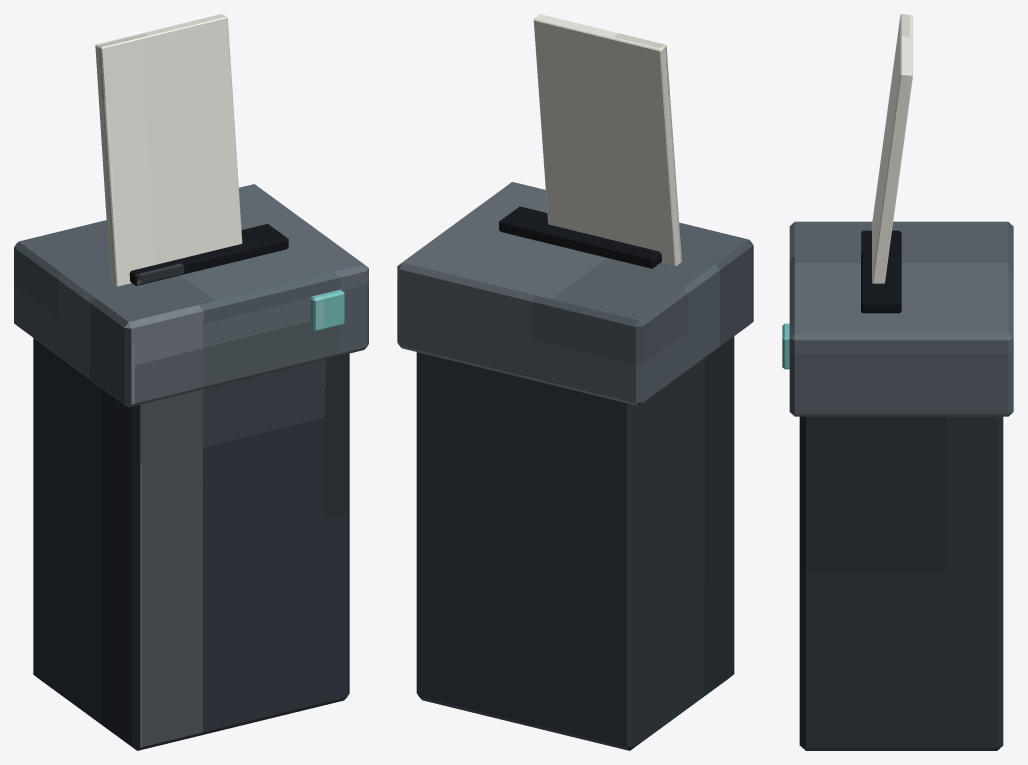
Rendered from office_shredder.glb.
3 views of the same model, side by side, from view 1: azimuth 30°, elevation 25°; view 2: azimuth 150°, elevation 25°; view 3: azimuth 270°, elevation 25° (orthographic). The views are drawn at different scales.
Visible parts, largest first — view 1: ShredderBin, ShredderHead, PaperStrip, PaperSlot, PowerButton; view 2: ShredderBin, ShredderHead, PaperStrip, PaperSlot; view 3: ShredderBin, ShredderHead, PaperStrip, PaperSlot.
Part boxes in pixels (bbox=[...]): ShredderBin: bbox=[33, 338, 349, 750]; ShredderHead: bbox=[14, 184, 368, 407]; PaperStrip: bbox=[95, 14, 242, 286]; PaperSlot: bbox=[129, 224, 288, 285]; PowerButton: bbox=[310, 289, 344, 331]; ShredderBin: bbox=[416, 336, 734, 750]; ShredderHead: bbox=[397, 182, 753, 405]; PaperStrip: bbox=[533, 14, 681, 266]; PaperSlot: bbox=[499, 206, 661, 268]; ShredderBin: bbox=[799, 416, 1003, 750]; ShredderHead: bbox=[789, 221, 1013, 416]; PaperStrip: bbox=[871, 14, 912, 283]; PaperSlot: bbox=[861, 230, 901, 313].
Bounding box in the file's own units: 0.54 × 1.4 × 0.454.
1 material, 1 textured.
